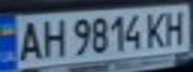1: (109, 12, 127, 52)
4: (124, 11, 145, 51)
8: (90, 13, 112, 55)
9: (69, 15, 93, 57)
A: (12, 18, 45, 62)
H: (36, 16, 69, 60), (160, 7, 190, 46)
K: (142, 9, 169, 50)
